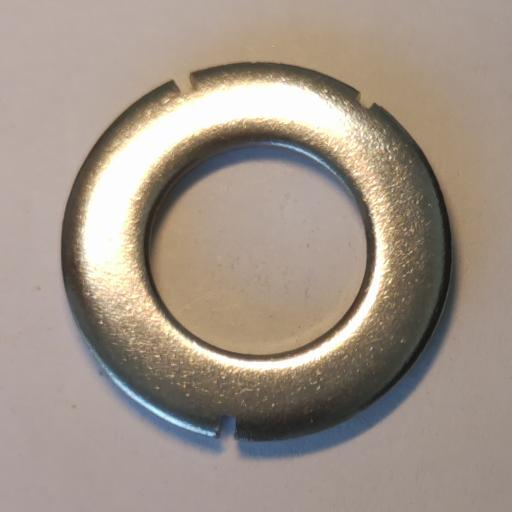burr: (173, 72, 199, 96), (352, 91, 375, 111)
